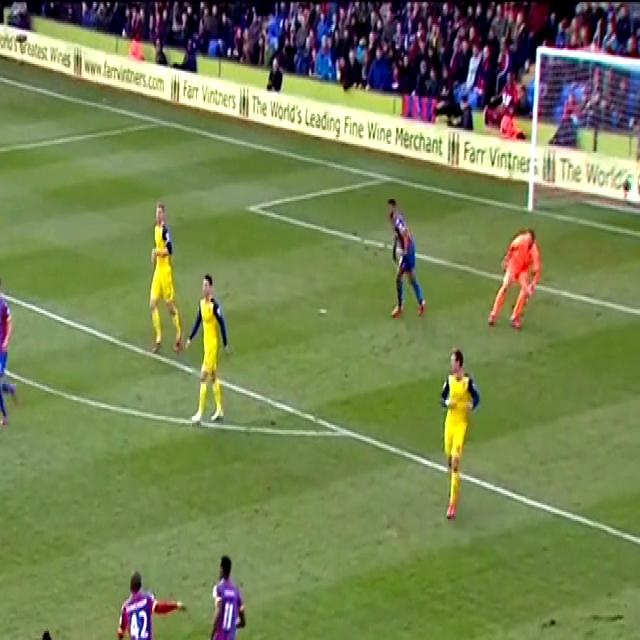goalkeeper: (480, 222, 548, 341)
soccer-player: (426, 343, 499, 531), (175, 273, 246, 442), (368, 193, 434, 329), (133, 195, 188, 356), (184, 554, 264, 640), (102, 560, 181, 640), (0, 270, 26, 423), (0, 202, 4, 346), (18, 636, 71, 640)
